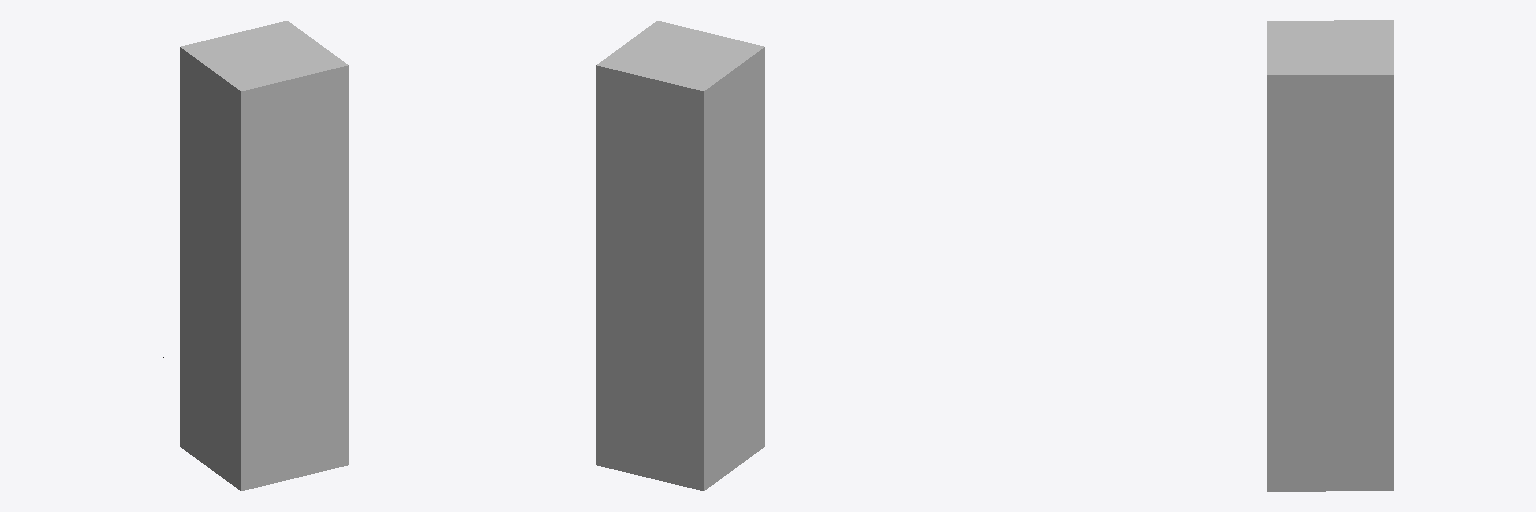
robot.urdf — ur10:
<?xml version="1.0" ?>
<!-- =================================================================================== -->
<!-- |    This document was autogenerated by xacro from xacro/ur10_robot.urdf.xacro    | -->
<!-- |    EDITING THIS FILE BY HAND IS NOT RECOMMENDED                                 | -->
<!-- =================================================================================== -->
<robot name="ur10">
  <!--
  Author: [author]
  Contributers: [author], [author], [author]
-->
  <!-- measured from model -->
  <link name="robot_base_link">
    <visual>
      <geometry>
        <mesh filename="package://ur10/visual/base.dae"/>
      </geometry>
      <material name="LightGrey">
        <color rgba="0.7 0.7 0.7 1.0"/>
      </material>
    </visual>
    <collision>
      <geometry>
        <mesh filename="package://ur10/collision/base.stl"/>
      </geometry>
    </collision>
    <inertial>
      <mass value="4.0"/>
      <origin rpy="0 0 0" xyz="0.0 0.0 0.0"/>
      <inertia ixx="0.0061063308908" ixy="0.0" ixz="0.0" iyy="0.0061063308908" iyz="0.0" izz="0.01125"/>
    </inertial>
  </link>
  <joint name="robot_shoulder_pan_joint" type="revolute">
    <parent link="robot_base_link"/>
    <child link="robot_shoulder_link"/>
    <origin rpy="0.0 0.0 0.0" xyz="0.0 0.0 0.1273"/>
    <axis xyz="0 0 1"/>
    <limit effort="330.0" lower="-6.283185307179586" upper="6.283185307179586" velocity="2.16"/>
    <dynamics damping="0.0" friction="0.0"/>
  </joint>
  <link name="robot_shoulder_link">
    <visual>
      <geometry>
        <mesh filename="package://ur10/visual/shoulder.dae"/>
      </geometry>
      <material name="LightGrey">
        <color rgba="0.7 0.7 0.7 1.0"/>
      </material>
    </visual>
    <collision>
      <geometry>
        <mesh filename="package://ur10/collision/shoulder.stl"/>
      </geometry>
    </collision>
    <inertial>
      <mass value="7.778"/>
      <origin rpy="0 0 0" xyz="0.0 0.0 0.0"/>
      <inertia ixx="0.03147431257693659" ixy="0.0" ixz="0.0" iyy="0.03147431257693659" iyz="0.0" izz="0.021875624999999996"/>
    </inertial>
  </link>
  <joint name="robot_shoulder_lift_joint" type="revolute">
    <parent link="robot_shoulder_link"/>
    <child link="robot_upper_arm_link"/>
    <origin rpy="0.0 1.5707963267948966 0.0" xyz="0.0 0.220941 0.0"/>
    <axis xyz="0 1 0"/>
    <limit effort="330.0" lower="-6.283185307179586" upper="6.283185307179586" velocity="2.16"/>
    <dynamics damping="0.0" friction="0.0"/>
  </joint>
  <link name="robot_upper_arm_link">
    <visual>
      <geometry>
        <mesh filename="package://ur10/visual/upperarm.dae"/>
      </geometry>
      <material name="LightGrey">
        <color rgba="0.7 0.7 0.7 1.0"/>
      </material>
    </visual>
    <collision>
      <geometry>
        <mesh filename="package://ur10/collision/upperarm.stl"/>
      </geometry>
    </collision>
    <inertial>
      <mass value="12.93"/>
      <origin rpy="0 0 0" xyz="0.0 -0.045 0.306"/>
      <inertia ixx="0.42175380379841093" ixy="0.0" ixz="0.0" iyy="0.42175380379841093" iyz="0.0" izz="0.03636562499999999"/>
    </inertial>
  </link>
  <joint name="robot_elbow_joint" type="revolute">
    <parent link="robot_upper_arm_link"/>
    <child link="robot_forearm_link"/>
    <origin rpy="0.0 0.0 0.0" xyz="0.0 -0.1719 0.612"/>
    <axis xyz="0 1 0"/>
    <limit effort="150.0" lower="-3.141592653589793" upper="3.141592653589793" velocity="3.15"/>
    <dynamics damping="0.0" friction="0.0"/>
  </joint>
  <link name="robot_forearm_link">
    <visual>
      <geometry>
        <mesh filename="package://ur10/visual/forearm.dae"/>
      </geometry>
      <material name="LightGrey">
        <color rgba="0.7 0.7 0.7 1.0"/>
      </material>
    </visual>
    <collision>
      <geometry>
        <mesh filename="package://ur10/collision/forearm.stl"/>
      </geometry>
    </collision>
    <inertial>
      <mass value="3.87"/>
      <origin rpy="0 0 0" xyz="0.0 0.0 0.28615"/>
      <inertia ixx="0.11106969409710458" ixy="0.0" ixz="0.0" iyy="0.11106969409710458" iyz="0.0" izz="0.010884375"/>
    </inertial>
  </link>
  <joint name="robot_wrist_1_joint" type="revolute">
    <parent link="robot_forearm_link"/>
    <child link="robot_wrist_1_link"/>
    <origin rpy="0.0 1.5707963267948966 0.0" xyz="0.0 0.0 0.5723"/>
    <axis xyz="0 1 0"/>
    <limit effort="54.0" lower="-6.283185307179586" upper="6.283185307179586" velocity="3.2"/>
    <dynamics damping="0.0" friction="0.0"/>
  </joint>
  <link name="robot_wrist_1_link">
    <visual>
      <geometry>
        <mesh filename="package://ur10/visual/wrist1.dae"/>
      </geometry>
      <material name="LightGrey">
        <color rgba="0.7 0.7 0.7 1.0"/>
      </material>
    </visual>
    <collision>
      <geometry>
        <mesh filename="package://ur10/collision/wrist1.stl"/>
      </geometry>
    </collision>
    <inertial>
      <mass value="1.96"/>
      <origin rpy="0 0 0" xyz="0.0 0.1149 0.0"/>
      <inertia ixx="0.005108247956699999" ixy="0.0" ixz="0.0" iyy="0.005108247956699999" iyz="0.0" izz="0.005512499999999999"/>
    </inertial>
  </link>
  <joint name="robot_wrist_2_joint" type="revolute">
    <parent link="robot_wrist_1_link"/>
    <child link="robot_wrist_2_link"/>
    <origin rpy="0.0 0.0 0.0" xyz="0.0 0.1149 0.0"/>
    <axis xyz="0 0 1"/>
    <limit effort="54.0" lower="-6.283185307179586" upper="6.283185307179586" velocity="3.2"/>
    <dynamics damping="0.0" friction="0.0"/>
  </joint>
  <link name="robot_wrist_2_link">
    <visual>
      <geometry>
        <mesh filename="package://ur10/visual/wrist2.dae"/>
      </geometry>
      <material name="LightGrey">
        <color rgba="0.7 0.7 0.7 1.0"/>
      </material>
    </visual>
    <collision>
      <geometry>
        <mesh filename="package://ur10/collision/wrist2.stl"/>
      </geometry>
    </collision>
    <inertial>
      <mass value="1.96"/>
      <origin rpy="0 0 0" xyz="0.0 0.0 0.1157"/>
      <inertia ixx="0.005108247956699999" ixy="0.0" ixz="0.0" iyy="0.005108247956699999" iyz="0.0" izz="0.005512499999999999"/>
    </inertial>
  </link>
  <joint name="robot_wrist_3_joint" type="revolute">
    <parent link="robot_wrist_2_link"/>
    <child link="robot_wrist_3_link"/>
    <origin rpy="0.0 0.0 0.0" xyz="0.0 0.0 0.1157"/>
    <axis xyz="0 1 0"/>
    <limit effort="54.0" lower="-6.283185307179586" upper="6.283185307179586" velocity="3.2"/>
    <dynamics damping="0.0" friction="0.0"/>
  </joint>
  <link name="robot_wrist_3_link">
    <visual>
      <geometry>
        <mesh filename="package://ur10/visual/wrist3.dae"/>
      </geometry>
      <material name="LightGrey">
        <color rgba="0.7 0.7 0.7 1.0"/>
      </material>
    </visual>
    <collision>
      <geometry>
        <mesh filename="package://ur10/collision/wrist3.stl"/>
      </geometry>
    </collision>
    <inertial>
      <mass value="0.202"/>
      <origin rpy="1.5707963267948966 0 0" xyz="0.0 0.07695 0.0"/>
      <inertia ixx="0.00011792166116465" ixy="0.0" ixz="0.0" iyy="0.00011792166116465" iyz="0.0" izz="0.00020452500000000002"/>
    </inertial>
  </link>
  <joint name="robot_ee_fixed_joint" type="fixed">
    <parent link="rh_p12_rn_base"/>
    <child link="robot_ee_link"/>
    <origin rpy="0.0 0.0 0.0" xyz="0.0 0.0 0.135"/>
  </joint>
  <link name="robot_ee_link">
    <inertial>
      <mass value="1e-3"/>
      <origin rpy="0 0 0" xyz="0.0 0.0 0.0"/>
      <inertia ixx="1e-5" ixy="0.0" ixz="0.0" iyy="1e-5" iyz="0.0" izz="1e-5"/>
    </inertial>
  </link>
  <transmission name="robot_shoulder_pan_trans">
    <type>transmission_interface/SimpleTransmission</type>
    <joint name="robot_shoulder_pan_joint">
      <hardwareInterface>hardware_interface/PositionJointInterface</hardwareInterface>
    </joint>
    <actuator name="robot_shoulder_pan_motor">
      <mechanicalReduction>1</mechanicalReduction>
    </actuator>
  </transmission>
  <transmission name="robot_shoulder_lift_trans">
    <type>transmission_interface/SimpleTransmission</type>
    <joint name="robot_shoulder_lift_joint">
      <hardwareInterface>hardware_interface/PositionJointInterface</hardwareInterface>
    </joint>
    <actuator name="robot_shoulder_lift_motor">
      <mechanicalReduction>1</mechanicalReduction>
    </actuator>
  </transmission>
  <transmission name="robot_elbow_trans">
    <type>transmission_interface/SimpleTransmission</type>
    <joint name="robot_elbow_joint">
      <hardwareInterface>hardware_interface/PositionJointInterface</hardwareInterface>
    </joint>
    <actuator name="robot_elbow_motor">
      <mechanicalReduction>1</mechanicalReduction>
    </actuator>
  </transmission>
  <transmission name="robot_wrist_1_trans">
    <type>transmission_interface/SimpleTransmission</type>
    <joint name="robot_wrist_1_joint">
      <hardwareInterface>hardware_interface/PositionJointInterface</hardwareInterface>
    </joint>
    <actuator name="robot_wrist_1_motor">
      <mechanicalReduction>1</mechanicalReduction>
    </actuator>
  </transmission>
  <transmission name="robot_wrist_2_trans">
    <type>transmission_interface/SimpleTransmission</type>
    <joint name="robot_wrist_2_joint">
      <hardwareInterface>hardware_interface/PositionJointInterface</hardwareInterface>
    </joint>
    <actuator name="robot_wrist_2_motor">
      <mechanicalReduction>1</mechanicalReduction>
    </actuator>
  </transmission>
  <transmission name="robot_wrist_3_trans">
    <type>transmission_interface/SimpleTransmission</type>
    <joint name="robot_wrist_3_joint">
      <hardwareInterface>hardware_interface/PositionJointInterface</hardwareInterface>
    </joint>
    <actuator name="robot_wrist_3_motor">
      <mechanicalReduction>1</mechanicalReduction>
    </actuator>
  </transmission>
  <gazebo reference="robot_shoulder_link">
    <selfCollide>true</selfCollide>
  </gazebo>
  <gazebo reference="robot_upper_arm_link">
    <selfCollide>true</selfCollide>
  </gazebo>
  <gazebo reference="robot_forearm_link">
    <selfCollide>true</selfCollide>
  </gazebo>
  <gazebo reference="robot_wrist_1_link">
    <selfCollide>true</selfCollide>
  </gazebo>
  <gazebo reference="robot_wrist_3_link">
    <selfCollide>true</selfCollide>
  </gazebo>
  <gazebo reference="robot_wrist_2_link">
    <selfCollide>true</selfCollide>
  </gazebo>
  <gazebo reference="robot_ee_link">
    <selfCollide>true</selfCollide>
  </gazebo>
  <!-- ROS base_link to UR 'Base' Coordinates transform -->
  <link name="robot_base">
    <inertial>
      <mass value="1e-3"/>
      <origin rpy="0 0 0" xyz="0.0 0.0 0.0"/>
      <inertia ixx="1e-5" ixy="0.0" ixz="0.0" iyy="1e-5" iyz="0.0" izz="1e-5"/>
    </inertial>
  </link>
  <joint name="robot_base_link-base_fixed_joint" type="fixed">
    <!-- NOTE: this rotation is only needed as long as base_link itself is
                 not corrected wrt the real robot (ie: rotated over 180
                 degrees)
      -->
    <origin rpy="0 0 -3.141592653589793" xyz="0 0 0"/>
    <parent link="robot_base_link"/>
    <child link="robot_base"/>
  </joint>
  <!-- Frame coincident with all-zeros TCP on UR controller -->
  <link name="robot_tool0">
    <inertial>
      <mass value="1e-3"/>
      <origin rpy="0 0 0" xyz="0.0 0.0 0.0"/>
      <inertia ixx="1e-5" ixy="0.0" ixz="0.0" iyy="1e-5" iyz="0.0" izz="1e-5"/>
    </inertial>
  </link>
  <joint name="robot_wrist_3_link-tool0_fixed_joint" type="fixed">
    <origin rpy="-1.5707963267948966 0 0" xyz="0 0.0922 0"/>
    <parent link="robot_wrist_3_link"/>
    <child link="robot_tool0"/>
  </joint>
  <link name="world"/>
  <joint name="world_joint" type="fixed">
    <parent link="world"/>
    <child link="robot_base_link"/>
    <origin rpy="0.0 0.0 0.0" xyz="0.0 0.0 0.0"/>
  </joint>
  <material name="black">
    <color rgba="0.0 0.0 0.0 1.0"/>
  </material>
  <material name="blue">
    <color rgba="0.0 0.0 0.8 1.0"/>
  </material>
  <material name="green">
    <color rgba="0.0 0.8 0.0 1.0"/>
  </material>
  <material name="grey">
    <color rgba="0.2 0.2 0.2 1.0"/>
  </material>
  <material name="orange">
      <color rgba="1.0 0.4235 0.0392 1.0"/>
  </material>
  <material name="brown">
      <color rgba="0.8706 0.8118 0.7647 1.0"/>
  </material>
  <material name="red">
    <color rgba="0.8 0.0 0.0 1.0"/>
  </material>
  <material name="white">
    <color rgba="1.0 1.0 1.0 1.0"/>
  </material>
  <!-- base -->
  <link name="rh_p12_rn_base">
    <collision>
      <origin xyz="0 0 0" rpy="0 0 0"/>
      <geometry>
        <mesh filename="package://robotis_rh_p12_rn/collision/base.stl" scale="0.001 0.001 0.001"/>
      </geometry>
    </collision>
    <visual>
      <origin xyz="0 0 0" rpy="0 0 0"/>
      <geometry>
        <mesh filename="package://robotis_rh_p12_rn/visual/base.stl" scale="0.001 0.001 0.001"/>
      </geometry>
      <material name="grey"/>
    </visual>
    <inertial>
      <origin xyz="0.000 0.000 0.032" rpy="0 0 0"/>
      <mass value="0.236"/>
      <!--<inertia ixx="0.00017" ixy="0.0" ixz="0.0" iyy="0.00011" iyz="0.0" izz="0.00017" />-->
      <!--<inertia ixx="1.0" ixy="0.0" ixz="0.0" iyy="1.0" iyz="0.0" izz="1.0" />-->
      <inertia ixx="0.001" ixy="0.0" ixz="0.0" iyy="0.001" iyz="0.0" izz="0.001" />
    </inertial>
  </link>
  <!-- Joint -->
  <joint name="rh_p12_rn" type="revolute">
    <parent link="rh_p12_rn_base"/>
    <child link="rh_p12_rn_r1"/>
    <origin xyz="0.0 0.008 0.048" rpy="0 0 0"/>
    <axis xyz="1 0 0"/>
    <limit velocity="6.5" effort="1000" lower="0.0" upper="1.115" />
    <dynamics damping="0.7"/>
  </joint>
  <gazebo reference="rh_p12_rn">
    <PID type="position">
      <p>1000.0</p>
      <i>0.0</i>
      <d>100.0</d>
    </PID>
  </gazebo>
  <transmission name="tran_r1">
    <type>transmission_interface/SimpleTransmission</type>
    <joint name="rh_p12_rn">
      <hardwareInterface>hardware_interface/PositionJointInterface</hardwareInterface>
    </joint>
    <actuator name="motor_r1">
      <hardwareInterface>hardware_interface/PositionJointInterface</hardwareInterface>
      <mechanicalReduction>1</mechanicalReduction>
    </actuator>
  </transmission>
  <!-- rh_p12_rn_r1 -->
  <link name="rh_p12_rn_r1">
    <collision>
      <origin xyz="0 0 0" rpy="0 0 0"/>
      <geometry>
        <mesh filename="package://robotis_rh_p12_rn/collision/r1.stl" scale="0.001 0.001 0.001"/>
      </geometry>
    </collision>
    <visual>
      <origin xyz="0 0 0" rpy="0 0 0"/>
      <geometry>
        <mesh filename="package://robotis_rh_p12_rn/visual/r1.stl" scale="0.001 0.001 0.001"/>
      </geometry>
      <material name="grey"/>
    </visual>
    <inertial>
      <origin xyz="0.000 0.034 0.004" rpy="0 0 0"/>
      <mass value="0.068"/>
      <!--<inertia ixx="0.00004" ixy="0.0" ixz="0.0" iyy="0.00002" iyz="-0.00001" izz="0.00002" />-->
      <!--<inertia ixx="1.0" ixy="0.0" ixz="0.0" iyy="1.0" iyz="0.0" izz="1.0" />-->
      <inertia ixx="0.001" ixy="0.0" ixz="0.0" iyy="0.001" iyz="0.0" izz="0.001" />
    </inertial>
  </link>
  <!-- Right Joint 2 -->
  <joint name="rh_r2" type="revolute">
    <parent link="rh_p12_rn_r1"/>
    <child link="rh_p12_rn_r2"/>
    <origin xyz="0.0 0.0493634 0.0285" rpy="0 0 0"/>
    <axis xyz="-1 0 0"/>
    <limit velocity="6.5" effort="1000" lower="0.0" upper="1.115" />
    <dynamics damping="0.7"/>
    <mimic joint="rh_p12_rn" multiplier="1" offset="0" />
  </joint>
  <gazebo reference="rh_r2">
    <PID type="position">
      <p>1000.0</p>
      <i>0.0</i>
      <d>100.0</d>
    </PID>
  </gazebo>
  <transmission name="tran_r2">
    <type>transmission_interface/SimpleTransmission</type>
    <joint name="rh_r2">
      <hardwareInterface>hardware_interface/PositionJointInterface</hardwareInterface>
    </joint>
    <actuator name="motor_r2">
      <hardwareInterface>hardware_interface/PositionJointInterface</hardwareInterface>
      <mechanicalReduction>1</mechanicalReduction>
    </actuator>
  </transmission>
  <!-- rh_p12_rn_r2 -->
  <link name="rh_p12_rn_r2">
    <collision>
      <origin xyz="0 0 0" rpy="0 0 0"/>
      <geometry>
        <mesh filename="package://robotis_rh_p12_rn/collision/r2.stl" scale="0.001 0.001 0.001"/>
      </geometry>
    </collision>
    <visual>
      <origin xyz="0 0 0" rpy="0 0 0"/>
      <geometry>
        <mesh filename="package://robotis_rh_p12_rn/visual/r2.stl" scale="0.001 0.001 0.001"/>
      </geometry>
      <material name="grey"/>
    </visual>
    <inertial>
      <origin xyz="0.000 0.006 0.011" rpy="0 0 0"/>
      <mass value="0.022"/>
      <!--<inertia ixx="0.0" ixy="0.0" ixz="0.0" iyy="0.00001" iyz="0.0" izz="0.0" />-->
      <!--<inertia ixx="1.0" ixy="0.0" ixz="0.0" iyy="1.0" iyz="0.0" izz="1.0" />-->
      <inertia ixx="0.001" ixy="0.0" ixz="0.0" iyy="0.001" iyz="0.0" izz="0.001" />
    </inertial>
  </link>
  <!-- Left Joint 1 -->
  <joint name="rh_l1" type="revolute">
    <parent link="rh_p12_rn_base"/>
    <child link="rh_p12_rn_l1"/>
    <origin xyz="0.0 -0.008 0.048" rpy="0 0 0"/>
    <axis xyz="-1 0 0"/>
    <limit velocity="6.5" effort="1000" lower="0.0" upper="1.115" />
    <dynamics damping="0.7"/>
    <mimic joint="rh_p12_rn" multiplier="1" offset="0" />
  </joint>
  <gazebo reference="rh_l1">
    <PID type="position">
      <p>1000.0</p>
      <i>0.0</i>
      <d>100.0</d>
    </PID>
  </gazebo>
  <transmission name="tran_l1">
    <type>transmission_interface/SimpleTransmission</type>
    <joint name="rh_l1">
      <hardwareInterface>hardware_interface/PositionJointInterface</hardwareInterface>
    </joint>
    <actuator name="motor_l1">
      <hardwareInterface>hardware_interface/PositionJointInterface</hardwareInterface>
      <mechanicalReduction>1</mechanicalReduction>
    </actuator>
  </transmission>
  <!-- rh_p12_rn_l1 -->
  <link name="rh_p12_rn_l1">
    <collision>
      <origin xyz="0 0 0" rpy="0 0 0"/>
      <geometry>
        <mesh filename="package://robotis_rh_p12_rn/collision/l1.stl" scale="0.001 0.001 0.001"/>
      </geometry>
    </collision>
    <visual>
      <origin xyz="0 0 0" rpy="0 0 0"/>
      <geometry>
        <mesh filename="package://robotis_rh_p12_rn/visual/l1.stl" scale="0.001 0.001 0.001"/>
      </geometry>
      <material name="grey"/>
    </visual>
    <inertial>
      <origin xyz="0.000 -0.034 0.004" rpy="0 0 0"/>
      <mass value="0.068"/>
      <!--<inertia ixx="0.00004" ixy="0.0" ixz="0.0" iyy="0.00002" iyz="0.00001" izz="0.00002" />-->
      <!--<inertia ixx="1.0" ixy="0.0" ixz="0.0" iyy="1.0" iyz="0.0" izz="1.0" />-->
      <inertia ixx="0.001" ixy="0.0" ixz="0.0" iyy="0.001" iyz="0.0" izz="0.001" />
    </inertial>
  </link>
  <!-- Left Joint 2 -->
  <joint name="rh_l2" type="revolute">
    <parent link="rh_p12_rn_l1"/>
    <child link="rh_p12_rn_l2"/>
    <origin xyz="0.0 -0.0493634 0.0285" rpy="0 0 0"/>
    <axis xyz="1 0 0"/>
    <limit velocity="6.5" effort="1000" lower="0.0" upper="1.115" />
    <dynamics damping="0.7"/>
    <mimic joint="rh_p12_rn" multiplier="1" offset="0" />
  </joint>
  <gazebo reference="rh_l2">
    <PID type="position">
      <p>1000.0</p>
      <i>0.0</i>
      <d>100.0</d>
    </PID>
  </gazebo>
  <transmission name="tran_l2">
    <type>transmission_interface/SimpleTransmission</type>
    <joint name="rh_l2">
      <hardwareInterface>hardware_interface/PositionJointInterface</hardwareInterface>
    </joint>
    <actuator name="motor_l2">
      <hardwareInterface>hardware_interface/PositionJointInterface</hardwareInterface>
      <mechanicalReduction>1</mechanicalReduction>
    </actuator>
  </transmission>
  <!-- rh_p12_rn_l2 -->
  <link name="rh_p12_rn_l2">
    <collision>
      <origin xyz="0 0 0" rpy="0 0 0"/>
      <geometry>
        <mesh filename="package://robotis_rh_p12_rn/collision/l2.stl" scale="0.001 0.001 0.001"/>
      </geometry>
    </collision>
    <visual>
      <origin xyz="0 0 0" rpy="0 0 0"/>
      <geometry>
        <mesh filename="package://robotis_rh_p12_rn/visual/l2.stl" scale="0.001 0.001 0.001"/>
      </geometry>
      <material name="grey"/>
    </visual>
    <inertial>
      <origin xyz="0.000 -0.006 0.011" rpy="0 0 0"/>
      <mass value="0.022"/>
      <!--<inertia ixx="0.0" ixy="0.0" ixz="0.0" iyy="0.00001" iyz="0.0" izz="0.0" />-->
      <!--<inertia ixx="1.0" ixy="0.0" ixz="0.0" iyy="1.0" iyz="0.0" izz="1.0" />-->
      <inertia ixx="0.001" ixy="0.0" ixz="0.0" iyy="0.001" iyz="0.0" izz="0.001" />
    </inertial>
  </link>
  <joint name="robot_tool0_rh_p12_rn_base" type="fixed">
    <origin rpy="0 0 0" xyz="0 0 0"/>
    <parent link="robot_tool0"/>
    <child link="rh_p12_rn_base"/>
  </joint>
  <material name="aluminum">
    <color rgba="0.8 0.8 0.8 1"/>
  </material>
  <!-- camera body, with origin at bottom screw mount -->
  <joint name="d435_joint" type="fixed">
    <origin rpy="0 -1.57 0" xyz="-0.03 0 0.03"/>
    <parent link="rh_p12_rn_base"/>
    <child link="d435_bottom_screw_frame"/>
  </joint>
  <link name="d435_bottom_screw_frame">
    <inertial>
      <origin rpy="0 0 0" xyz="0 0 0"/>
      <mass value="0.001"/>
      <inertia ixx="1E-5" ixy="0" ixz="0" iyy="1E-5" iyz="-0" izz="1E-5"/>
    </inertial>
  </link>
  <joint name="d435_link_joint" type="fixed">
    <origin rpy="0 0 0" xyz="0 0.0175 0.0125"/>
    <parent link="d435_bottom_screw_frame"/>
    <child link="d435_link"/>
  </joint>
  <link name="d435_link">
    <visual>
      <origin rpy="1.5707963267948966 0 1.5707963267948966" xyz="0.0149 -0.0175 0"/>
      <geometry>
        <mesh filename="package://realsense2/visual/d435.dae"/>
      </geometry>
      <material name="aluminum"/>
    </visual>
    <collision>
      <origin rpy="0 0 0" xyz="0 -0.0175 0"/>
      <geometry>
        <box size="0.02505 0.09 0.025"/>
      </geometry>
    </collision>
    <inertial>
      <!-- The following are not reliable values, and should not be used for modeling -->
      <mass value="0.564"/>
      <origin xyz="0 0 0"/>
      <inertia ixx="0.003881243" ixy="0.0" ixz="0.0" iyy="0.000498940" iyz="0.0" izz="0.003879257"/>
    </inertial>
  </link>
  <!-- camera depth joints and links -->
  <joint name="d435_depth_joint" type="fixed">
    <origin rpy="0 0 0" xyz="0 0 0"/>
    <parent link="d435_link"/>
    <child link="d435_depth_frame"/>
  </joint>
  <link name="d435_depth_frame">
    <inertial>
      <origin rpy="0 0 0" xyz="0 0 0"/>
      <mass value="0.001"/>
      <inertia ixx="1E-5" ixy="0" ixz="0" iyy="1E-5" iyz="-0" izz="1E-5"/>
    </inertial>
  </link>
  <!-- camera color joints and links -->
  <joint name="d435_color_joint" type="fixed">
    <origin rpy="0 0 0" xyz="0 0.015 0"/>
    <parent link="d435_depth_frame"/>
    <child link="d435_color_frame"/>
  </joint>
  <link name="d435_color_frame">
    <inertial>
      <origin rpy="0 0 0" xyz="0 0 0"/>
      <mass value="0.001"/>
      <inertia ixx="1E-5" ixy="0" ixz="0" iyy="1E-5" iyz="-0" izz="1E-5"/>
    </inertial>
  </link>
</robot>

--- Render facts (derived) ---
Views: 3 orthographic renders of the robot side by side, from view 1: azimuth 30°, elevation 25°; view 2: azimuth 150°, elevation 25°; view 3: azimuth 270°, elevation 25°.
Robot: ur10 — 20 links, 19 joints (10 revolute, 9 fixed); root link world; default pose: all joints at 0.
Links seen in each view (by area): view 1: d435_link; view 2: d435_link; view 3: d435_link.
Link boxes in pixels (left/top/right/bottom): d435_link: left=180, top=21, right=348, bottom=490; d435_link: left=596, top=21, right=764, bottom=490; d435_link: left=1267, top=20, right=1393, bottom=491.
Size in the robot's own frame: 0.0553 by 0.0449 by 0.0904 metres.
2 mesh visuals loaded from 13 distinct referenced files (1 binary STL, 1 Collada DAE); not drawn: 11 (reference not matched to a file when rendering).